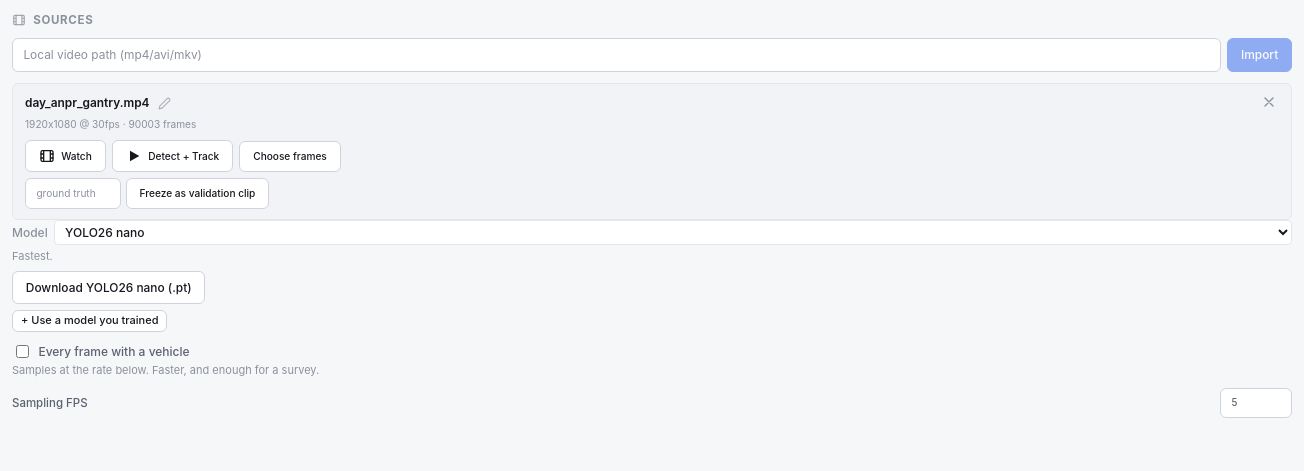
Test: Keeping every frame with a vehicle in it › shows the cost before the button is pressed
Hover over the button "Detect + Track".
mouse_move(172, 156)  # box x1=112 y1=140 x2=233 y2=172
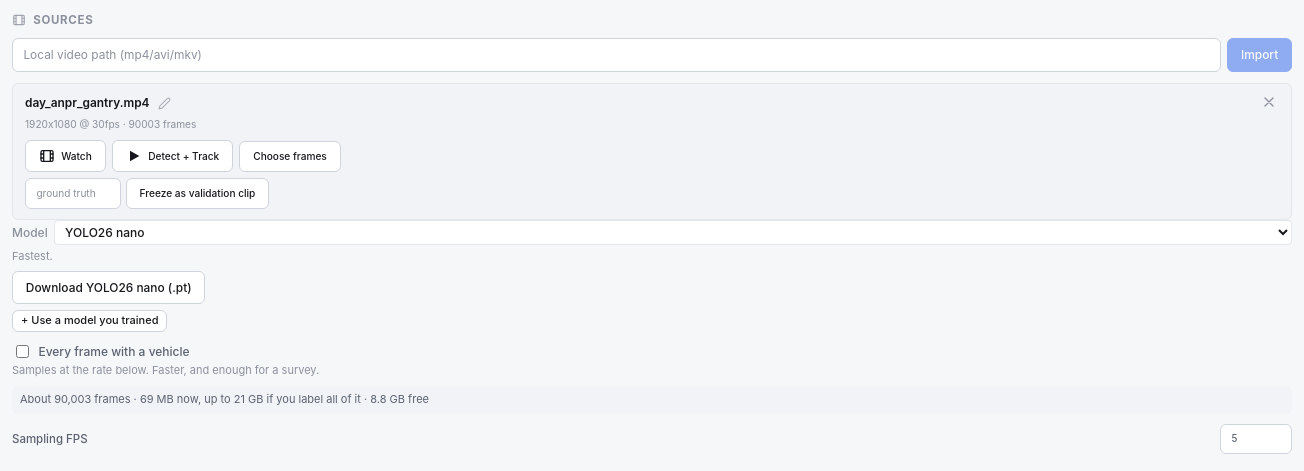
Check: the text with test id "run-estimate" shows "90,003 frames", box x1=12 y1=386 x2=1292 y2=414
Check: the text with test id "run-estimate" shows "if you label all of it", box x1=263 y1=392 x2=367 y2=406
